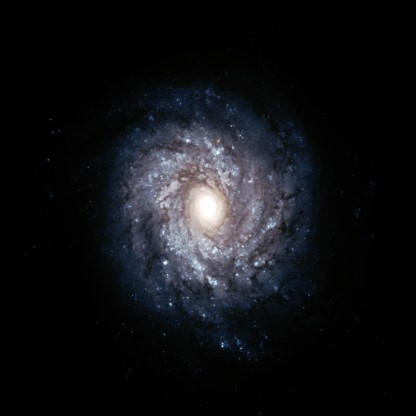NGC 3982: (91, 83, 328, 360)
